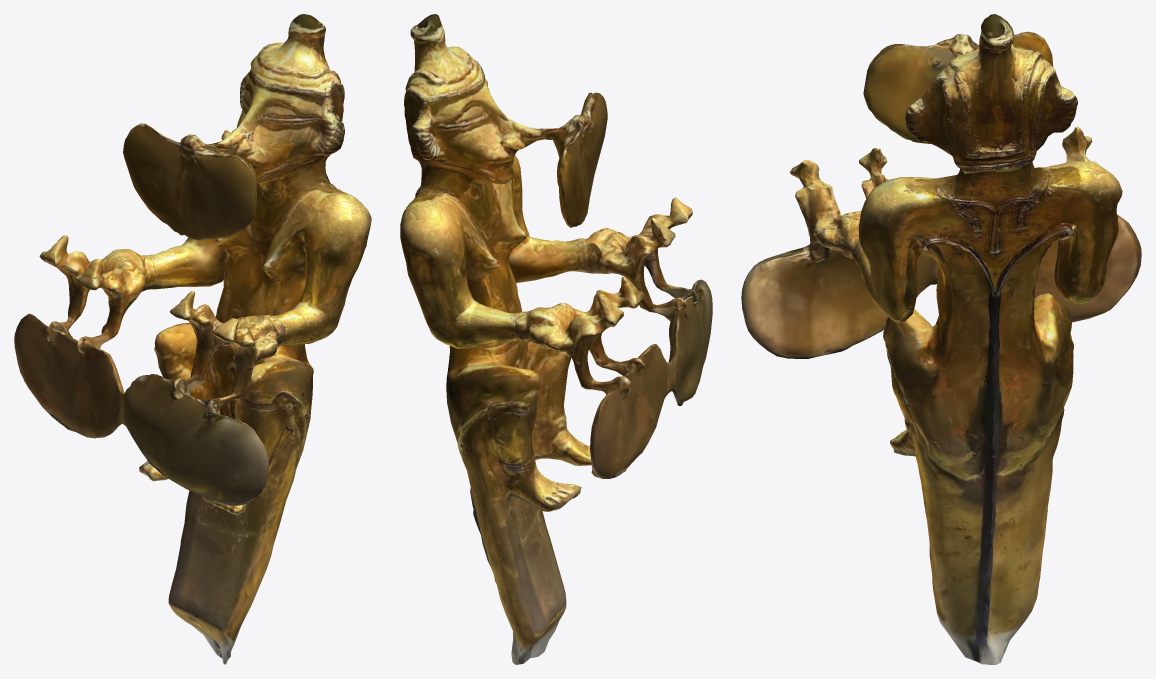
The model's file is popora_de_oro.lod1.glb.
3 views of the same model, side by side, from view 1: azimuth 30°, elevation 25°; view 2: azimuth 150°, elevation 25°; view 3: azimuth 270°, elevation 25° (orthographic). The views are drawn at different scales.
Parts seen in each view (by area): view 1: Object_4; view 2: Object_4; view 3: Object_4.
Part boxes in pixels (bbox=[...]): Object_4: bbox=[14, 14, 371, 664]; Object_4: bbox=[400, 14, 712, 664]; Object_4: bbox=[741, 14, 1141, 664].
Size of the model in its own units: 0.1256 by 0.2932 by 0.1536.
Materials: 1 (1 with a texture image).
